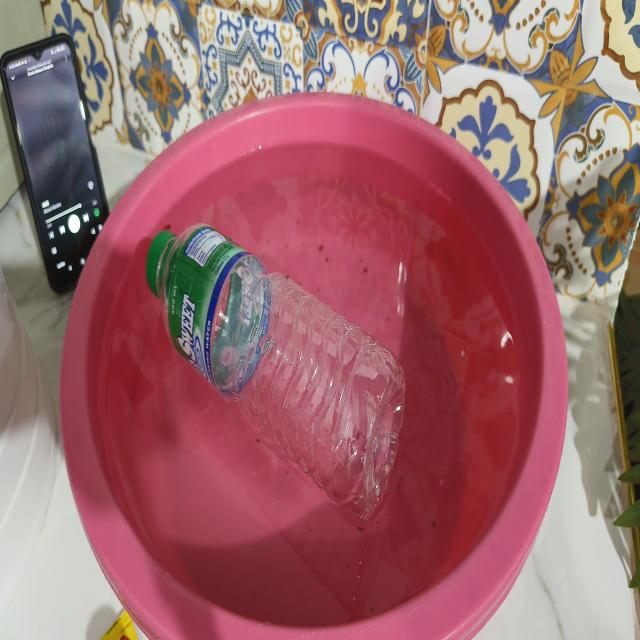Plastic Bottle: (131, 180, 427, 556)
